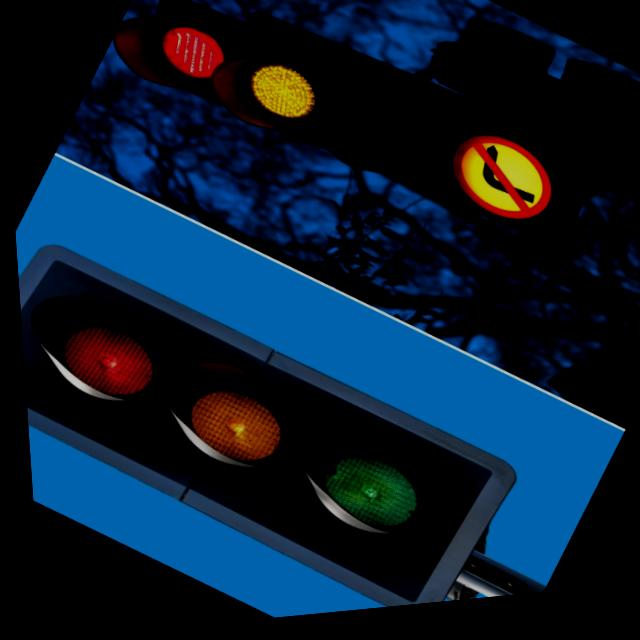Hijau: (302, 440, 426, 556)
Kuning: (165, 368, 295, 489), (239, 56, 323, 135)
Merah: (41, 303, 164, 417), (151, 17, 231, 92)
